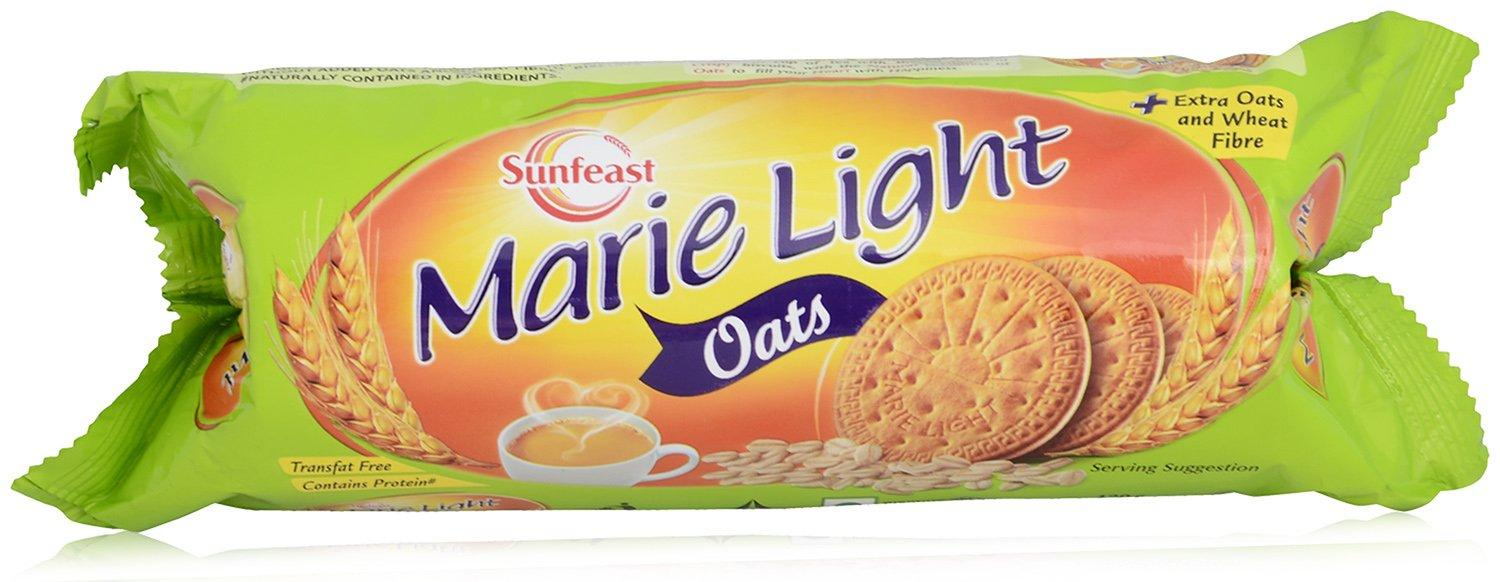MarieLight: (14, 7, 1490, 534)
